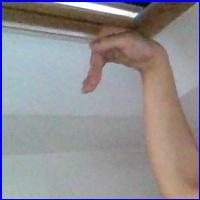del: (76, 26, 167, 103)
